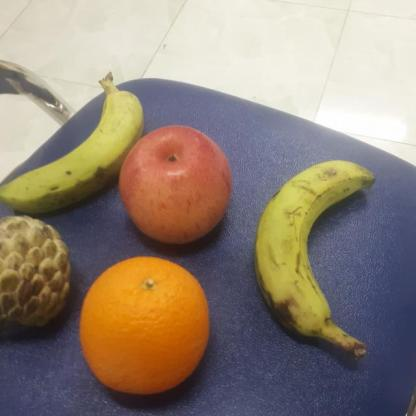annona: (0, 212, 76, 329)
apple: (116, 122, 234, 246)
banana: (250, 155, 378, 338), (1, 87, 146, 215)
orange: (77, 255, 212, 396)
